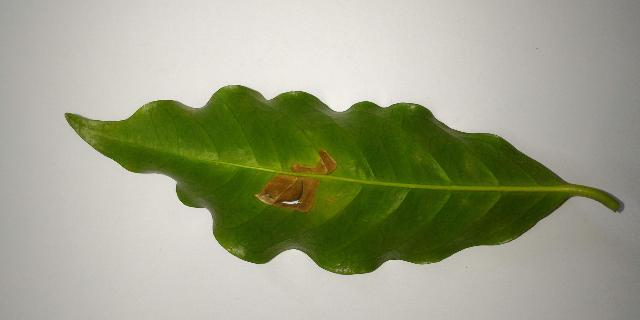cercospora: (255, 150, 337, 212)
